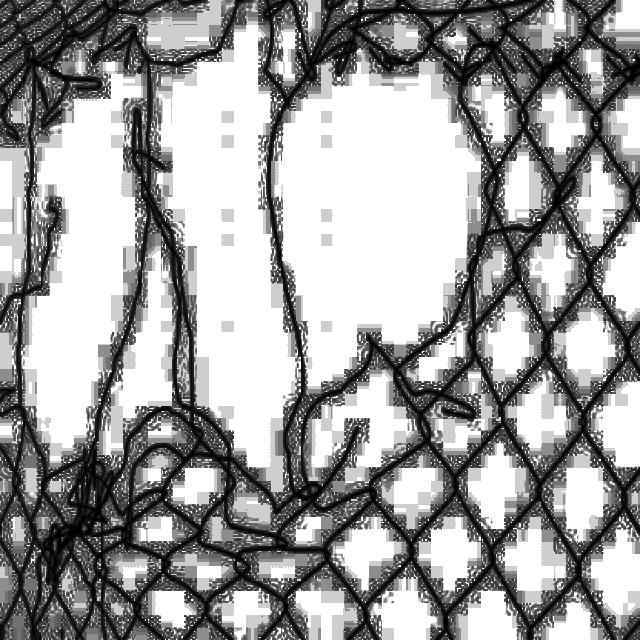anomaly-fence: (14, 2, 626, 608)
